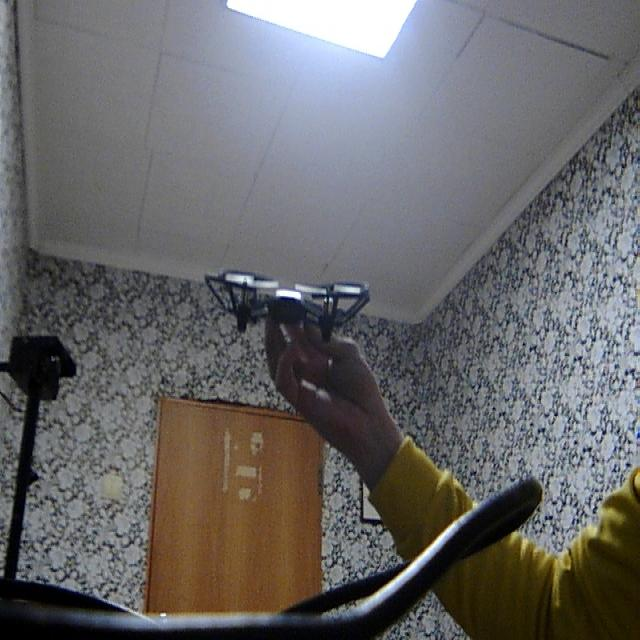drone: (200, 247, 379, 349)
